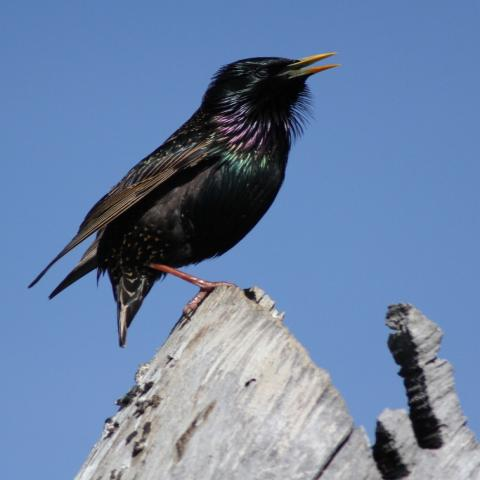bird: (26, 50, 342, 348)
